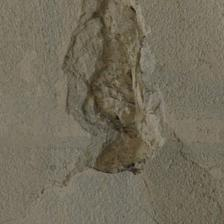Crack: (33, 1, 126, 183)
